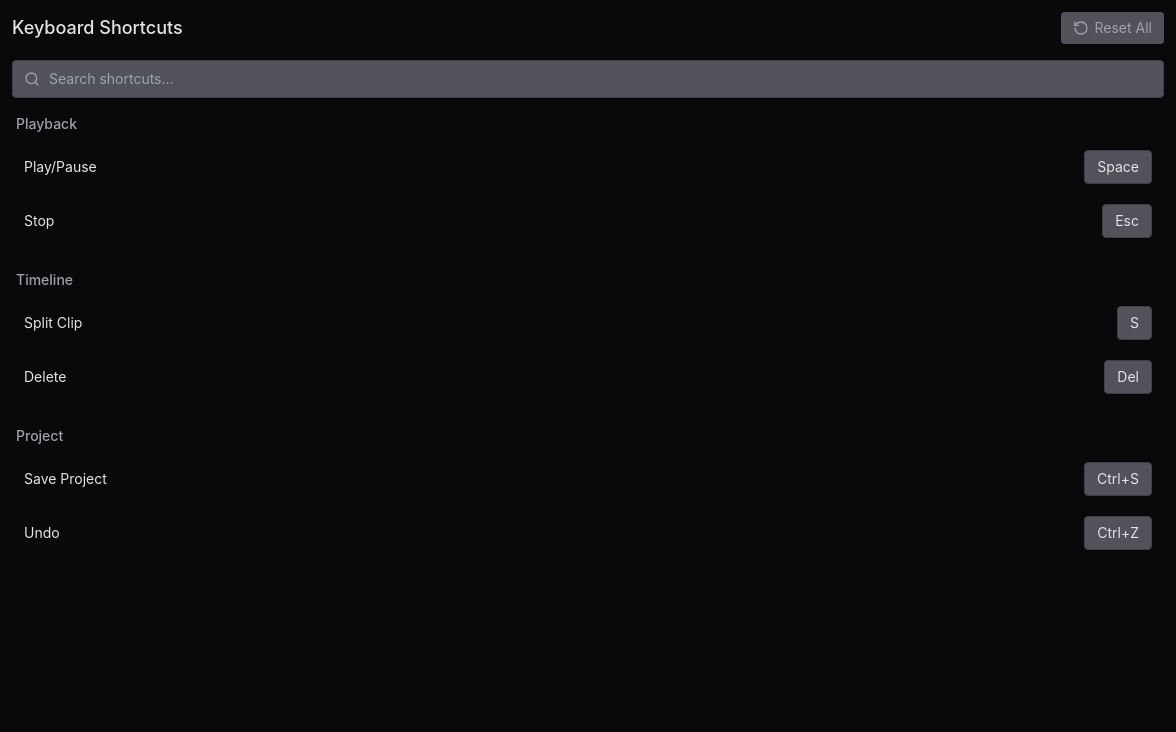
Test: ShortcutEditor › shortcut editing › should cancel editing on Escape
Click the button "Space" at (1118, 167), box [1084, 150, 1152, 184]
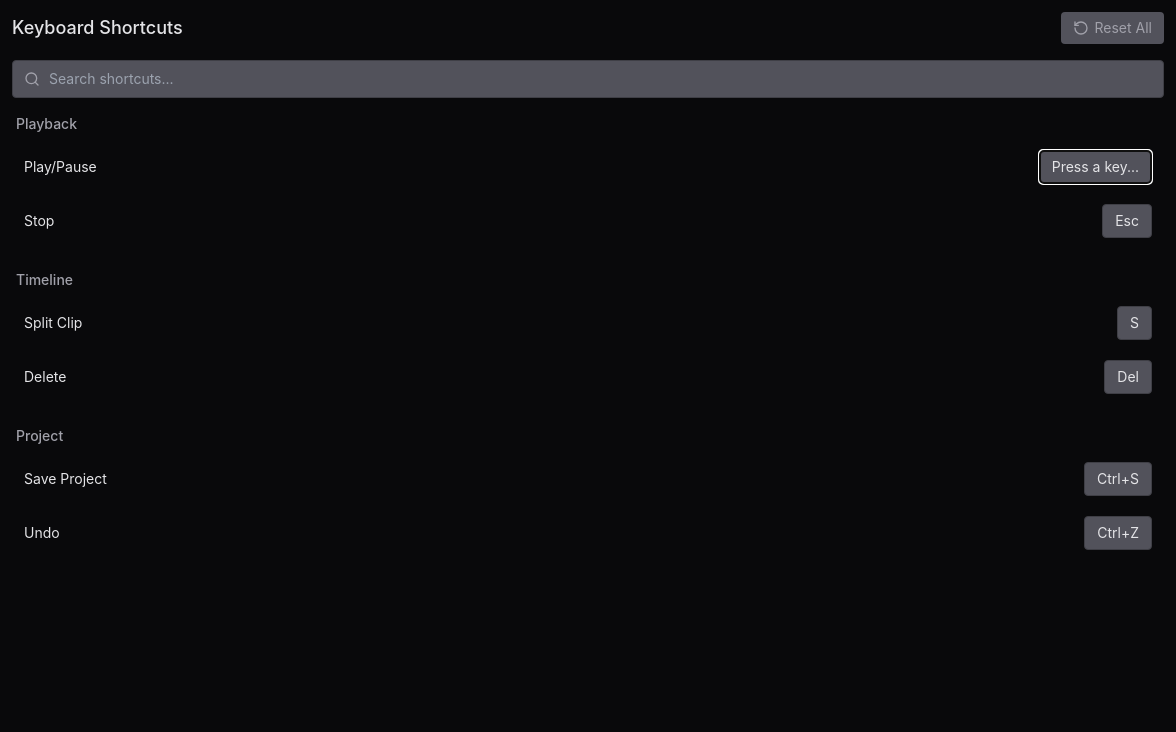
Check: the text "Press a key..." is shown, box [1039, 150, 1152, 184]
Press Escape
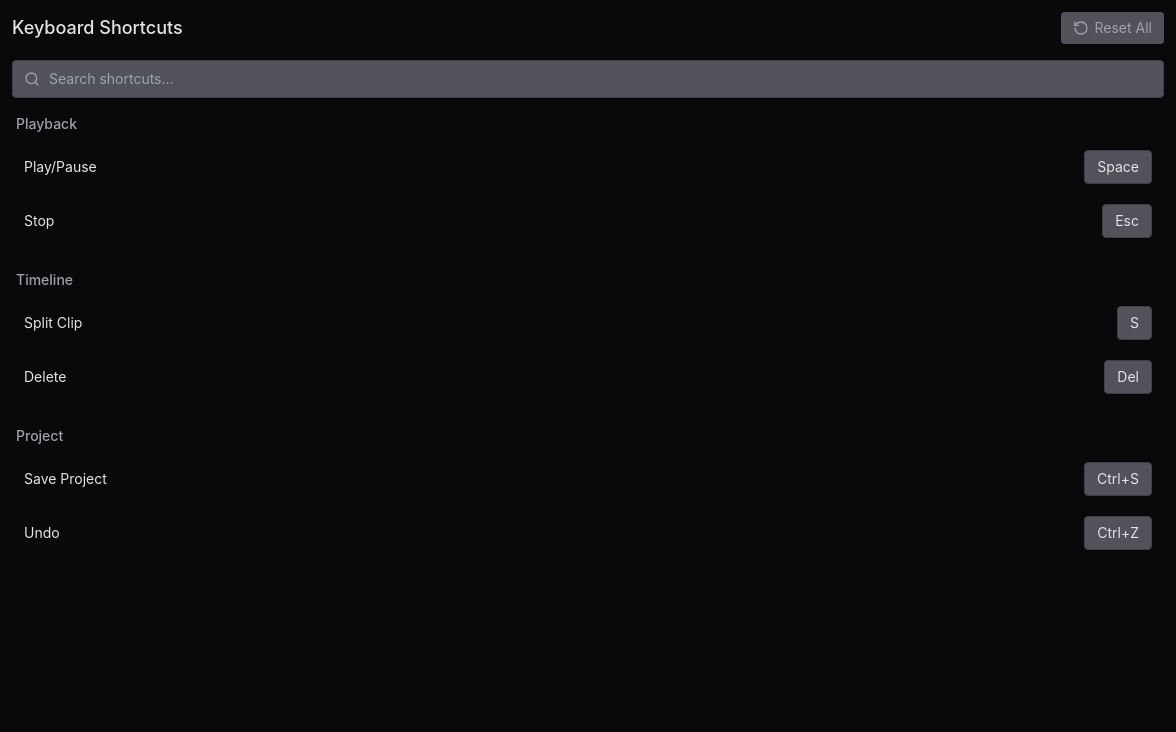
Check: the text "Press a key" is gone
